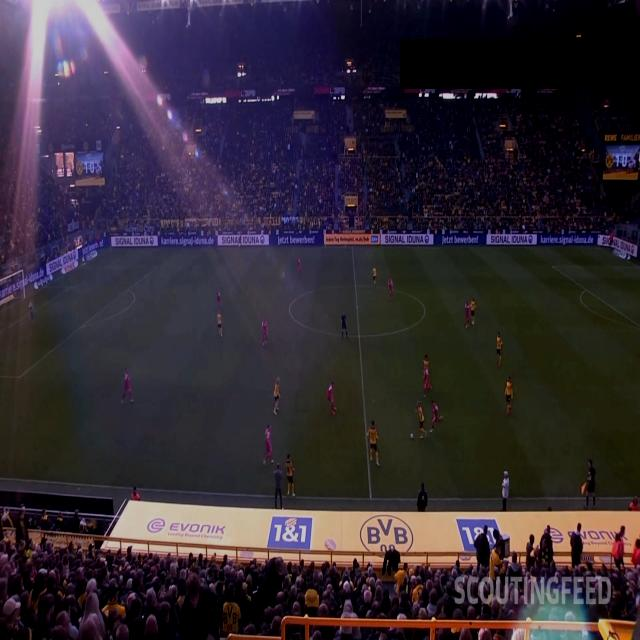ball: (410, 433, 414, 439)
f_player: (366, 418, 380, 467), (284, 452, 298, 498), (414, 399, 428, 441), (120, 366, 134, 406), (262, 423, 274, 467), (430, 399, 444, 434), (504, 374, 514, 418), (326, 381, 338, 416), (272, 376, 282, 416), (422, 366, 432, 398), (496, 331, 504, 369), (469, 296, 477, 328), (260, 316, 268, 346), (216, 309, 223, 338), (28, 299, 35, 327), (464, 300, 470, 330), (215, 289, 222, 311), (423, 354, 429, 374), (388, 276, 393, 300), (372, 265, 377, 287), (296, 256, 302, 274)
umpire: (341, 311, 348, 341)
